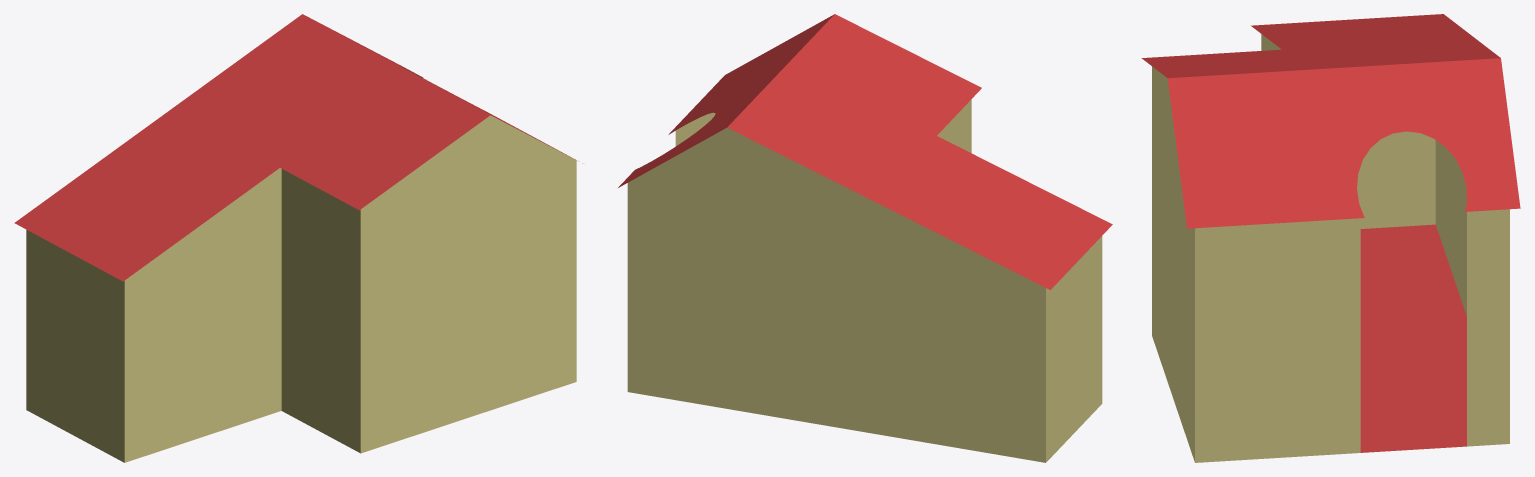
3 views of the same model, side by side, from view 1: azimuth 30°, elevation 25°; view 2: azimuth 150°, elevation 25°; view 3: azimuth 270°, elevation 25° (orthographic). The views are drawn at different scales.
Bounding box in the file's own units: 15.6 × 10.1 × 9.75.
